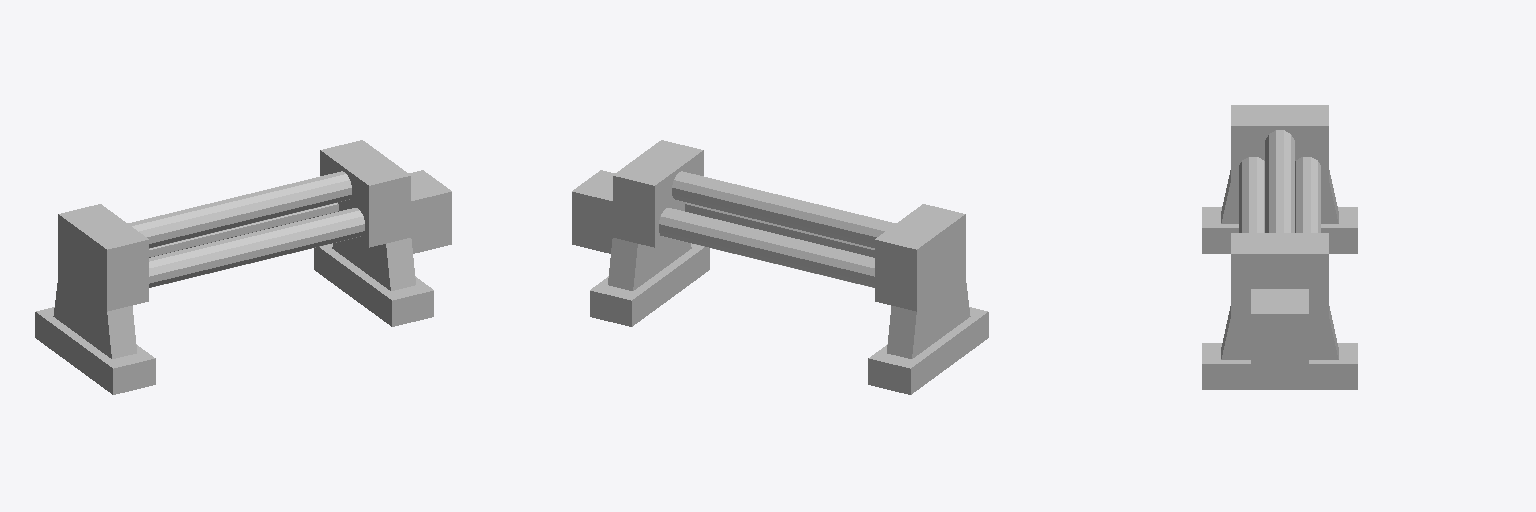
Rendered from metal_roller_mirrored.obj.
The picture shows the model from 3 angles: view 1: azimuth 30°, elevation 25°; view 2: azimuth 150°, elevation 25°; view 3: azimuth 270°, elevation 25°; orthographic projection.
Parts seen in each view (by area): view 1: cube, cylinder; view 2: cube, cylinder; view 3: cube, cylinder.
Boxes of the visible parts, box(x1,y1,x2,y2) form: cube: box(35, 140, 451, 394); cylinder: box(128, 171, 364, 287); cube: box(572, 140, 988, 394); cylinder: box(659, 171, 895, 287); cube: box(1202, 105, 1357, 389); cylinder: box(1239, 130, 1320, 232).
Size of the model in its own units: 2.69 by 0.9375 by 1.